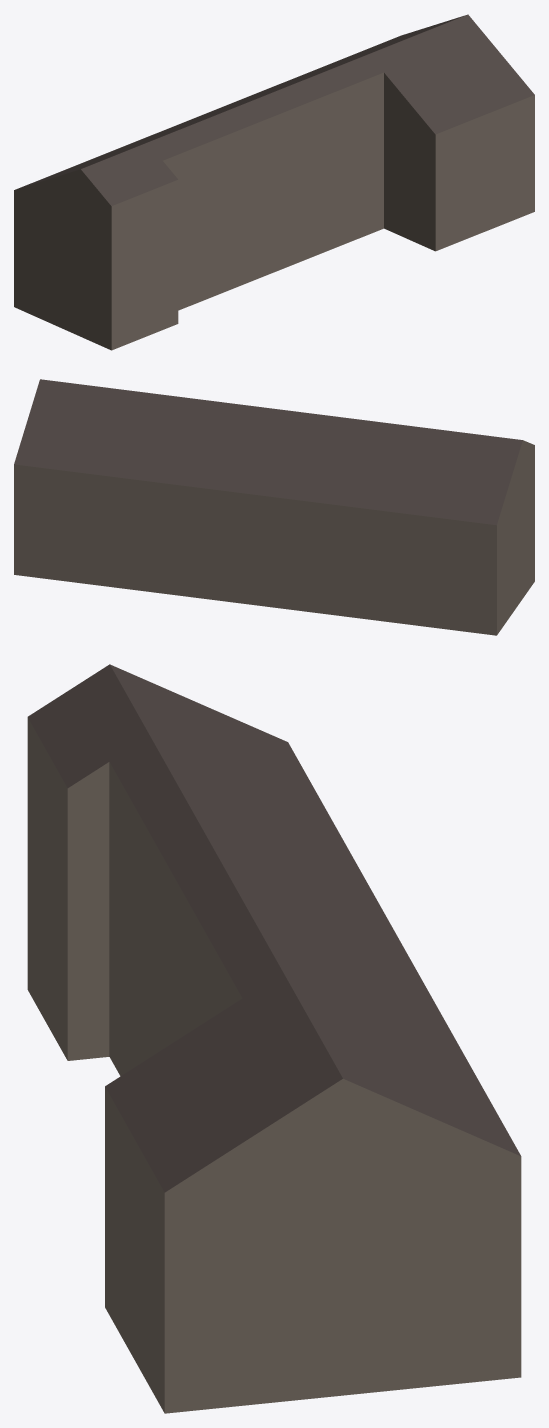
3 views of the same model, one above another, from view 1: azimuth 30°, elevation 25°; view 2: azimuth 150°, elevation 25°; view 3: azimuth 270°, elevation 25° (orthographic). The views are drawn at different scales.
Visible parts, largest first — view 1: HP-w757497653; view 2: HP-w757497653; view 3: HP-w757497653.
Part boxes in pixels (bbox=[...]): HP-w757497653: bbox=[14, 14, 534, 350]; HP-w757497653: bbox=[14, 379, 534, 635]; HP-w757497653: bbox=[27, 664, 521, 1413].
Bounding box in the file's own units: 39.36 × 12.91 × 18.24.
